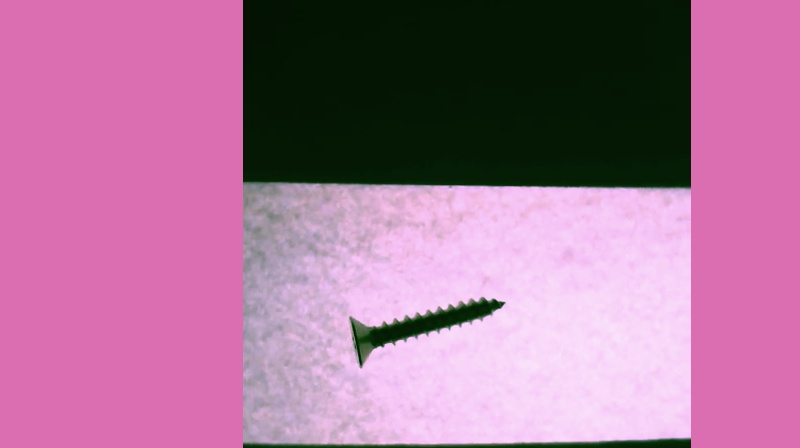S001: (345, 294, 509, 372)
